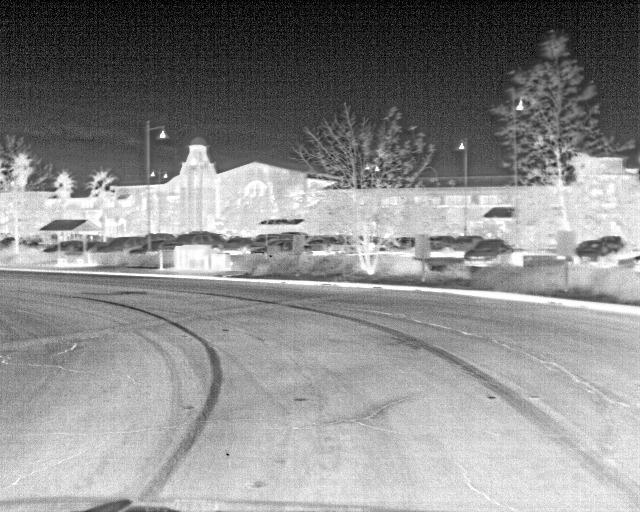car: (462, 237, 512, 264), (163, 233, 224, 255), (96, 234, 147, 254), (448, 233, 484, 254), (303, 235, 339, 256), (218, 237, 257, 253), (428, 234, 456, 255), (256, 238, 291, 254), (379, 236, 414, 252), (576, 239, 600, 260), (598, 235, 622, 255), (60, 238, 83, 253)
